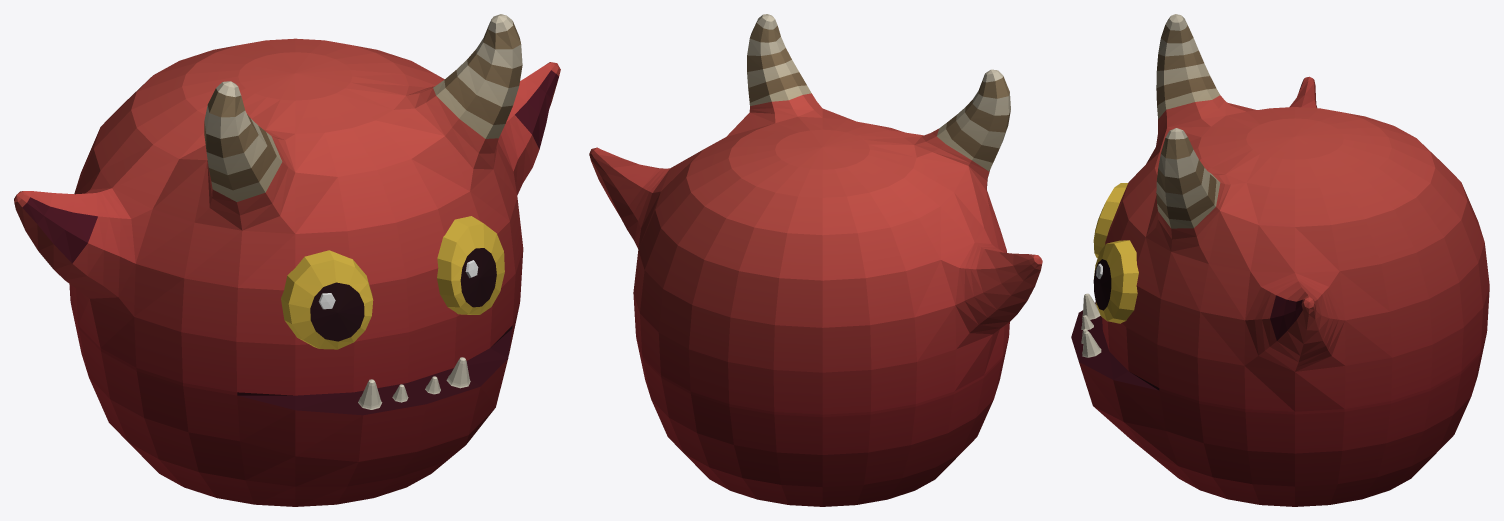
The model's file is Demon.glb.
3 views of the same model, side by side, from view 1: azimuth 30°, elevation 25°; view 2: azimuth 150°, elevation 25°; view 3: azimuth 270°, elevation 25° (orthographic). The views are drawn at different scales.
Visible parts, largest first — view 1: Crypt_Demon; view 2: Crypt_Demon; view 3: Crypt_Demon.
Boxes of the visible parts, x1,y1,x2,y2 form: Crypt_Demon: (14, 14, 560, 506); Crypt_Demon: (589, 14, 1042, 506); Crypt_Demon: (1071, 14, 1489, 506).
Bounding box in the file's own units: 1.99 × 1.63 × 1.55.
